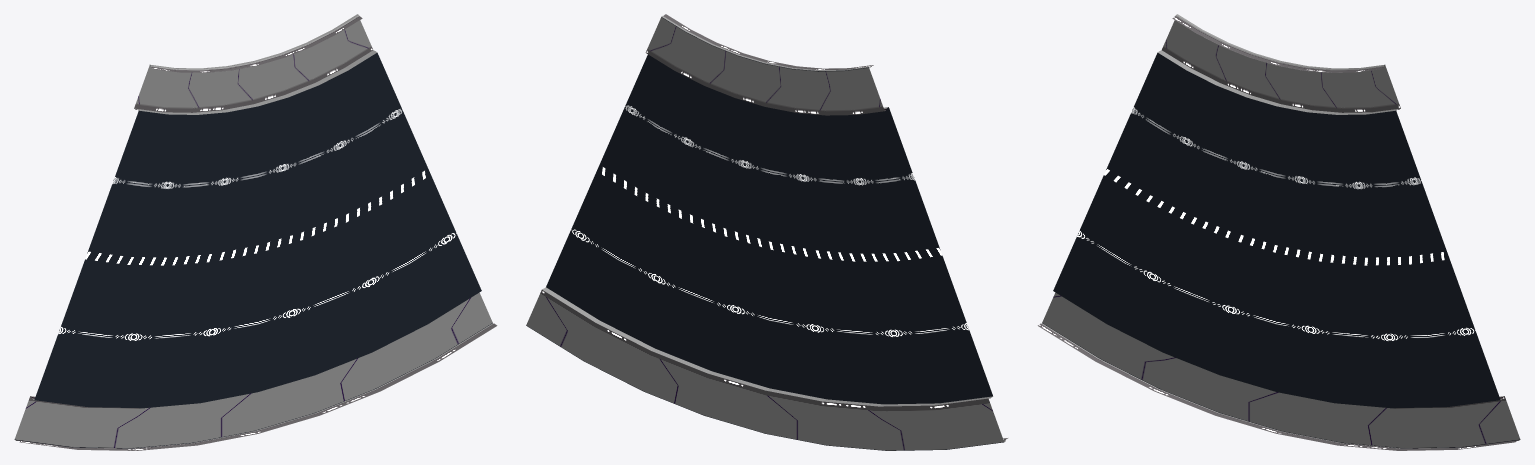
The model's file is SM_L_Road45.fbx.
The picture shows the model from 3 angles, left to right: view 1: azimuth 30°, elevation 25°; view 2: azimuth 150°, elevation 25°; view 3: azimuth 330°, elevation 25°; orthographic projection.
Parts seen in each view (by area): view 1: SM_L_Road45; view 2: SM_L_Road45; view 3: SM_L_Road45.
Part boxes in pixels (x1,y1,x2,y2): SM_L_Road45: [14, 14, 497, 450]; SM_L_Road45: [526, 14, 1007, 450]; SM_L_Road45: [1037, 14, 1520, 450].
Size of the model in its own units: 6658 by 5211 by 119.
